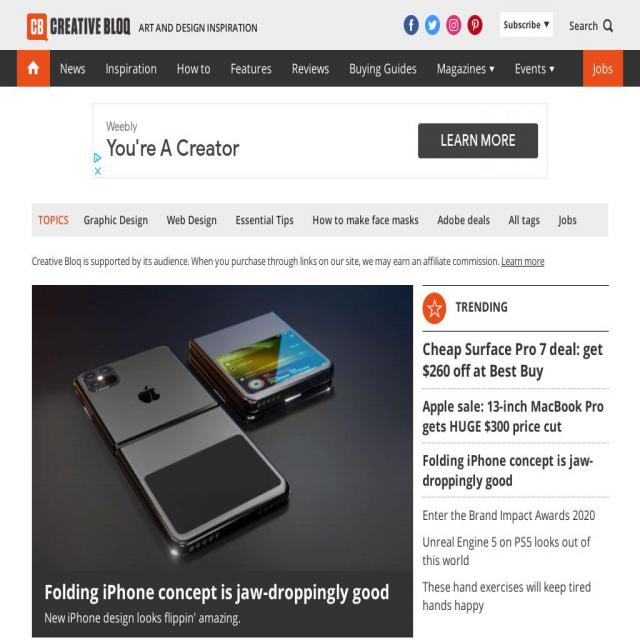follow-options: (401, 5, 484, 43)
navigation-links: (25, 200, 590, 237), (18, 52, 632, 80)
search: (564, 12, 626, 42)
